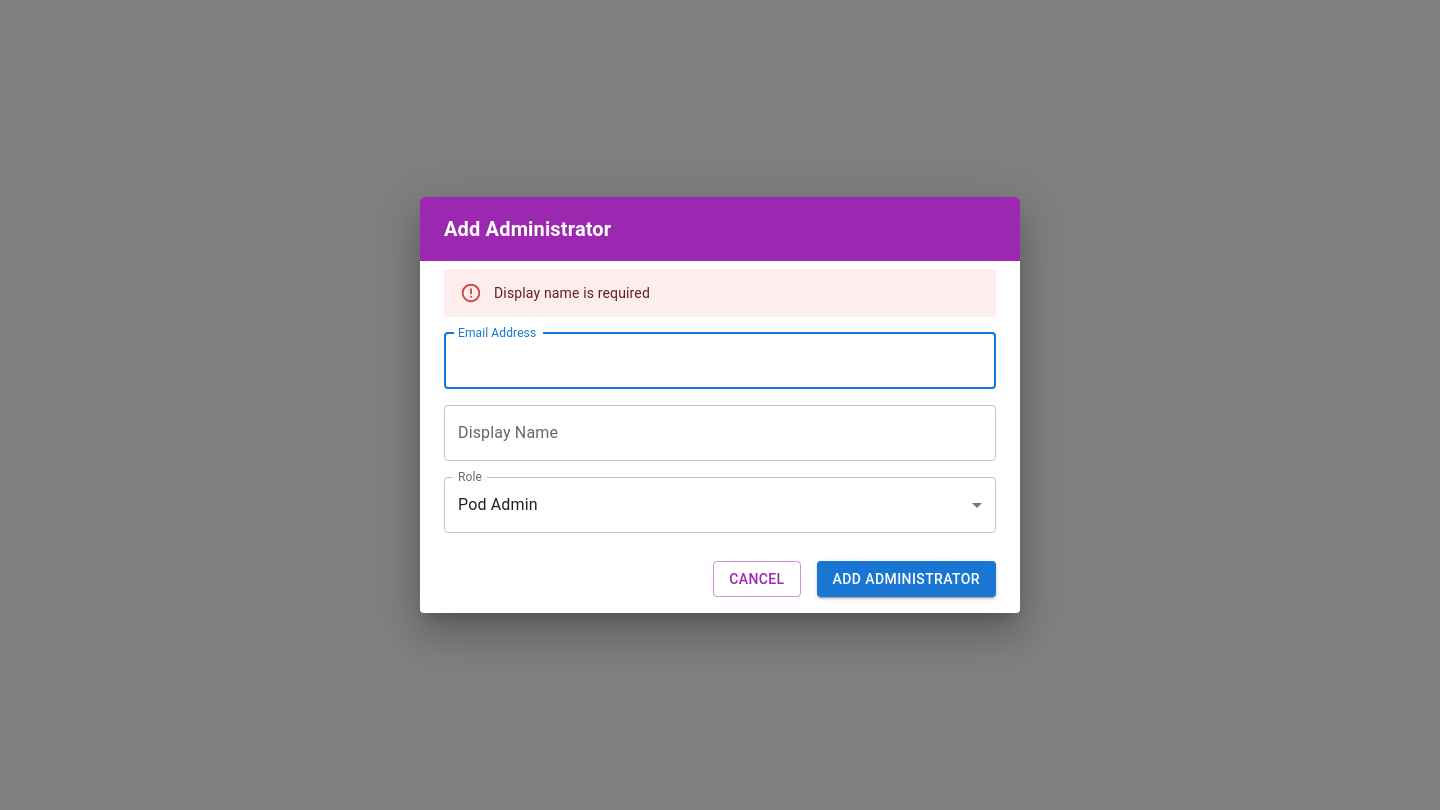
it: CreatePodAdminDialog › should clear the form-level alert when any field is edited
Expected: the text "Display name is required" is shown, x1=494 y1=285 x2=650 y2=301
Type "Fixed Name" into the field labelled "Display Name".
click(720, 433); type("Fixed Name")  # box x1=444 y1=405 x2=996 y2=461
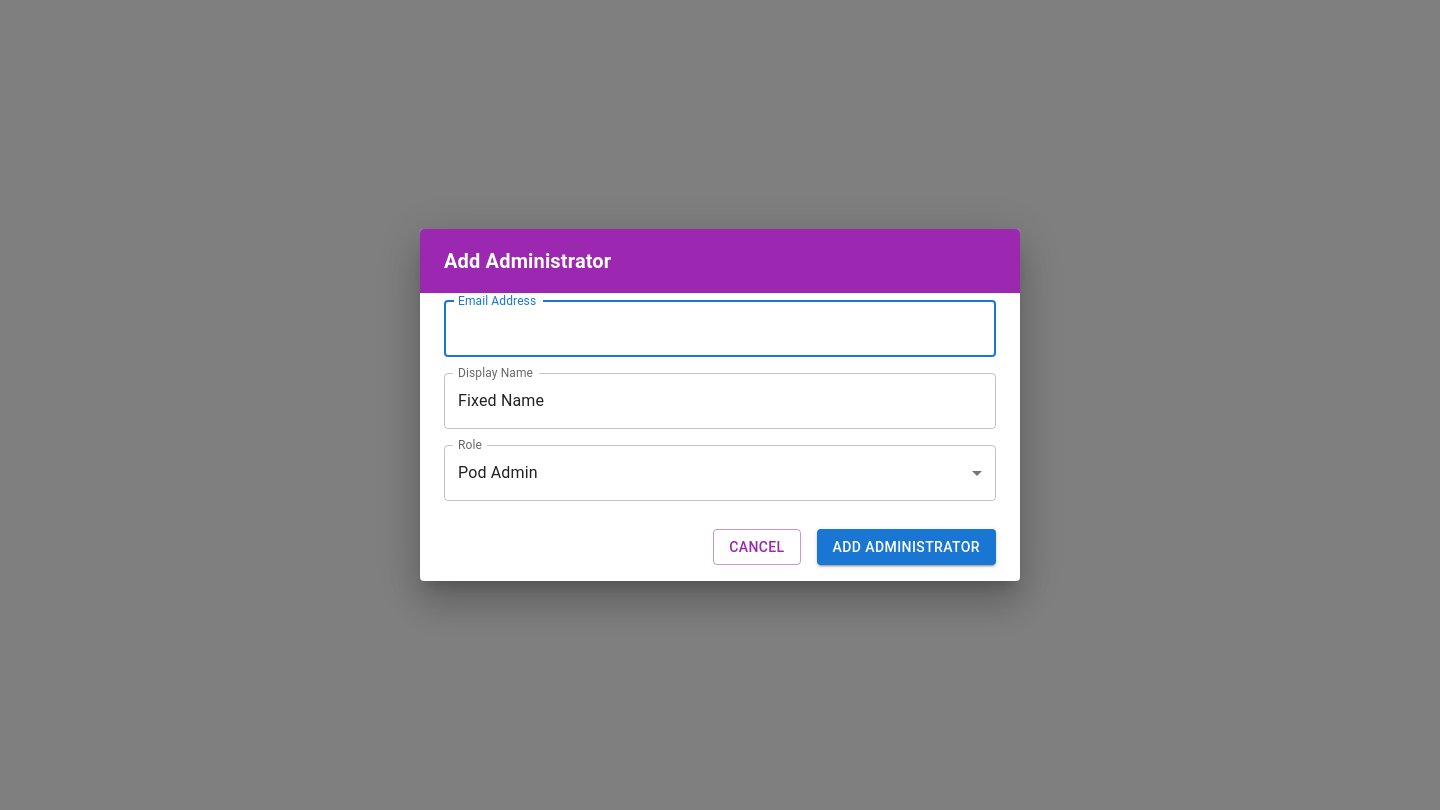
Expected: the text "Display name is required" is gone
